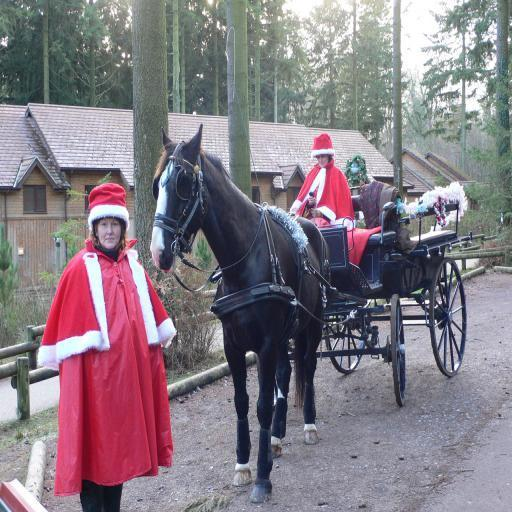horse: (148, 126, 332, 508)
